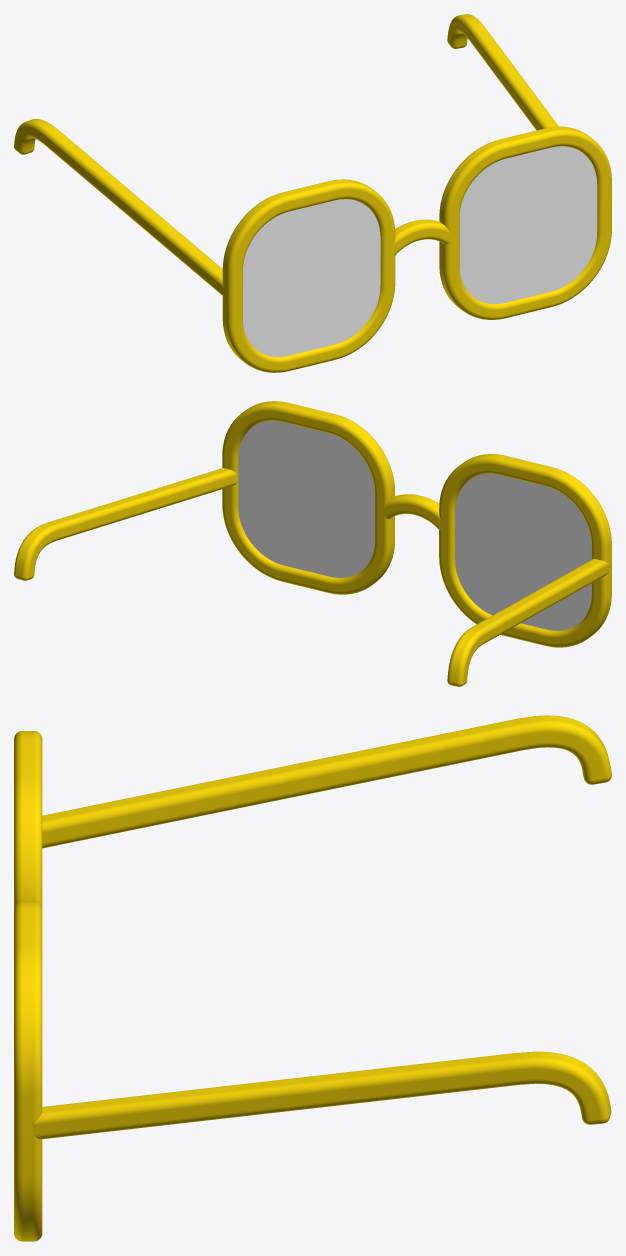
File: glasses.gltf
3 renders of one model, top to bottom at view 1: azimuth 30°, elevation 25°; view 2: azimuth 150°, elevation 25°; view 3: azimuth 270°, elevation 25°, orthographic. The views are drawn at different scales.
Visible parts, largest first — view 1: Extrude, glas left, Sweep.2 (×2), middle; view 2: Extrude, glas left, Sweep.2 (×2), middle; view 3: Sweep.2 (×2), glas left.
Part boxes in pixels (x1,y1,x2,y2): Extrude: [243, 146, 597, 356]; glas left: [222, 126, 611, 372]; Sweep.2 (×2): [14, 14, 558, 296]; middle: [390, 219, 453, 255]; Extrude: [238, 421, 591, 630]; glas left: [222, 401, 611, 647]; Sweep.2 (×2): [14, 468, 609, 686]; middle: [381, 494, 445, 530]; Sweep.2 (×2): [32, 715, 611, 1139]; glas left: [14, 731, 42, 1241].
Bounding box in the file's own units: 29.42 × 11 × 21.07.
